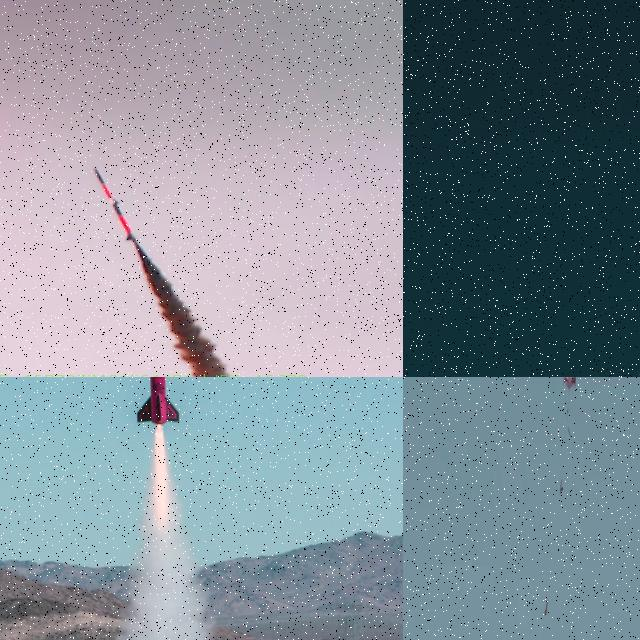Rocket: (92, 167, 140, 241), (134, 377, 181, 427), (543, 599, 549, 616)
